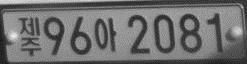0: (152, 13, 175, 53)
1: (205, 12, 226, 52)
2: (126, 13, 150, 54)
6: (69, 15, 92, 55)
8: (178, 13, 202, 53)
9: (42, 16, 65, 55)
아: (93, 17, 117, 52)
제주_V: (17, 15, 42, 56)
